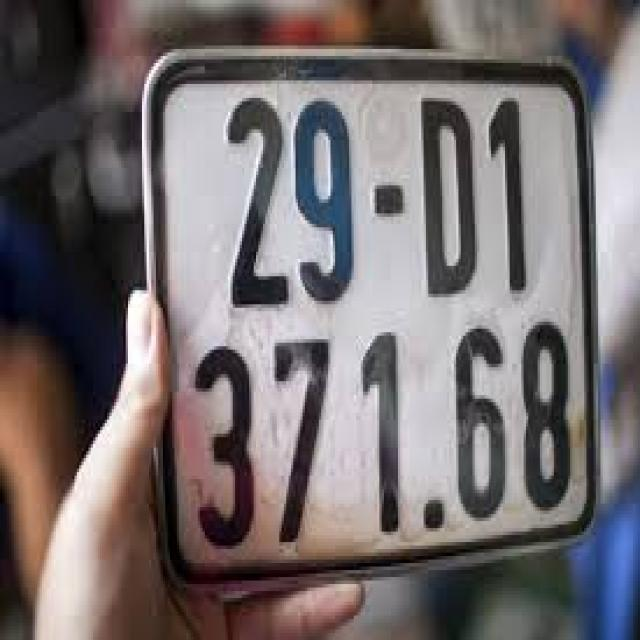a: (126, 31, 612, 548)
bien so: (132, 32, 604, 568)
